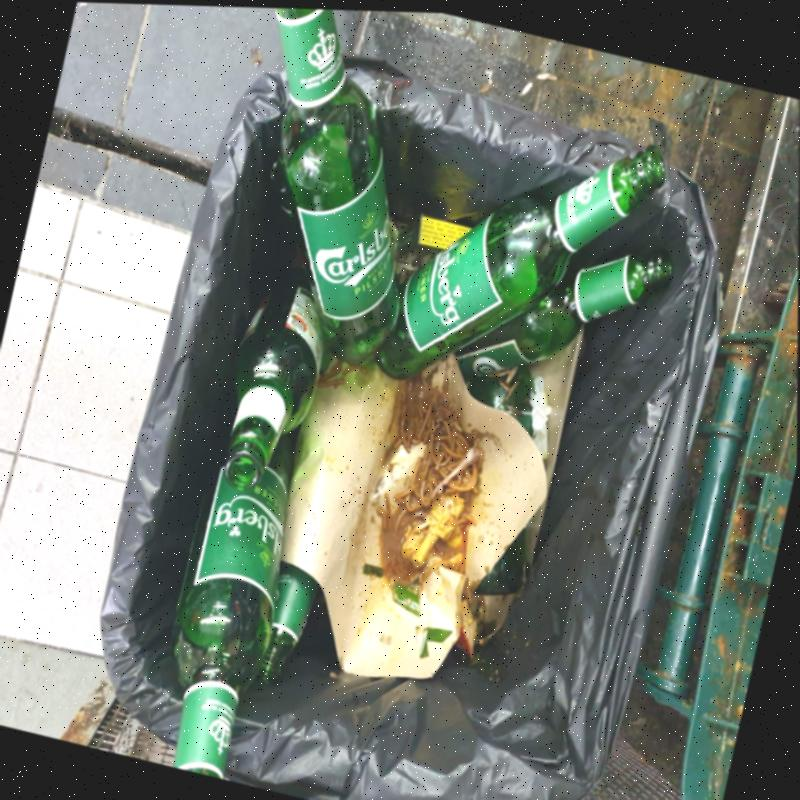cardboard: (280, 354, 545, 678)
glass bottle: (373, 144, 665, 380), (170, 425, 299, 779), (273, 8, 397, 365), (453, 252, 670, 380), (223, 267, 322, 492), (258, 561, 317, 683)
left-over food: (380, 385, 479, 567)
